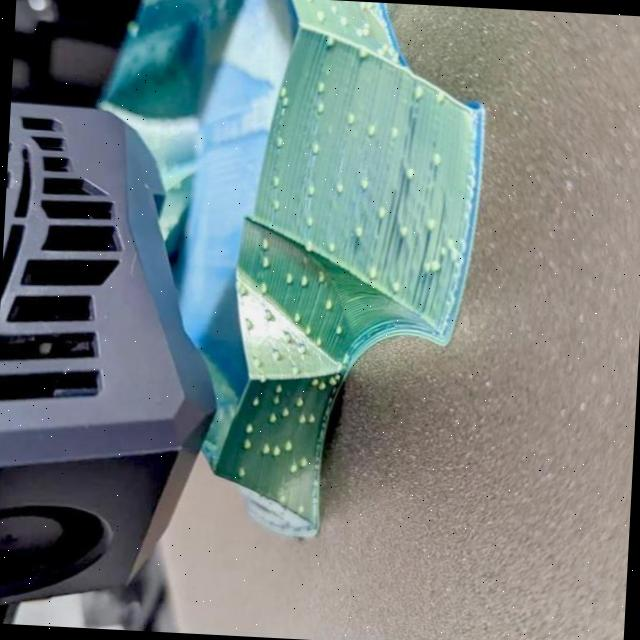blobs: (420, 254, 440, 282), (351, 20, 374, 40), (401, 164, 422, 185), (321, 34, 342, 52), (282, 268, 298, 290), (364, 121, 378, 144), (421, 218, 439, 235), (332, 322, 347, 342), (258, 235, 272, 256), (374, 206, 390, 224), (276, 96, 295, 111), (285, 461, 300, 480), (258, 440, 272, 460), (271, 134, 288, 150), (303, 184, 320, 200), (356, 178, 372, 195), (430, 154, 447, 170), (387, 280, 402, 298), (301, 242, 320, 256), (412, 87, 426, 106), (436, 88, 450, 107), (345, 112, 357, 134), (234, 284, 250, 300), (313, 10, 330, 25), (351, 225, 366, 242), (325, 241, 342, 256), (309, 333, 324, 350), (295, 454, 310, 471), (304, 216, 318, 234), (260, 308, 274, 326), (298, 272, 312, 290), (365, 266, 379, 284), (398, 224, 411, 243), (338, 15, 353, 31), (268, 396, 284, 411), (278, 493, 294, 508), (314, 80, 328, 97), (389, 126, 403, 143), (301, 322, 314, 340), (356, 46, 368, 65), (240, 439, 255, 454), (314, 100, 328, 116), (278, 332, 294, 346), (328, 1, 341, 18), (334, 183, 347, 200), (292, 310, 304, 328), (246, 394, 261, 408), (296, 412, 309, 428), (278, 406, 292, 420), (269, 199, 282, 214), (322, 298, 334, 314), (260, 258, 274, 271), (242, 320, 255, 334), (269, 350, 282, 364), (252, 358, 266, 371), (276, 383, 286, 401), (328, 375, 340, 390), (310, 142, 322, 156), (316, 272, 328, 286), (314, 382, 328, 394), (272, 446, 283, 461), (260, 283, 270, 299), (306, 376, 319, 388), (244, 424, 255, 438), (235, 470, 246, 484), (306, 413, 316, 428), (284, 440, 294, 454), (266, 412, 276, 426), (294, 398, 304, 412), (271, 178, 281, 188)
